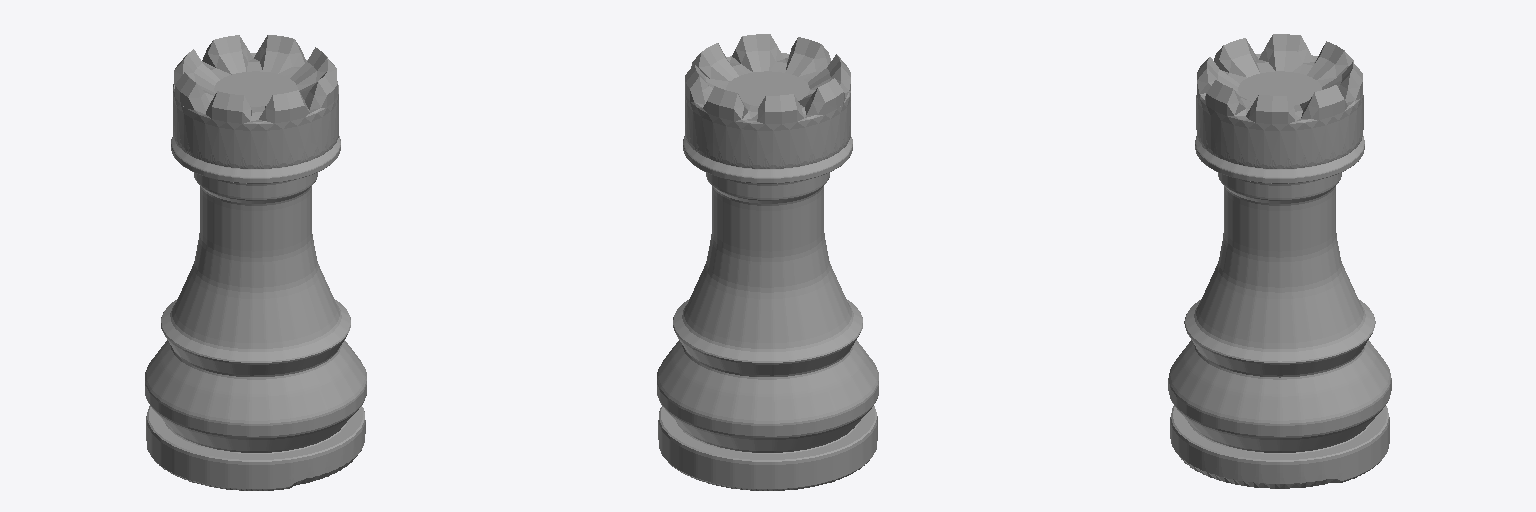
The model's file is rook.obj.
3 renders of one model, left to right at view 1: azimuth 30°, elevation 25°; view 2: azimuth 150°, elevation 25°; view 3: azimuth 270°, elevation 25°, orthographic.
Parts seen in each view (by area): view 1: Circle; view 2: Circle; view 3: Circle.
Part boxes in pixels (x1,y1,x2,y2): Circle: (145,35,366,490); Circle: (657,34,878,490); Circle: (1168,34,1391,488).
Bounding box in the file's own units: 1.3 × 2.45 × 1.3.